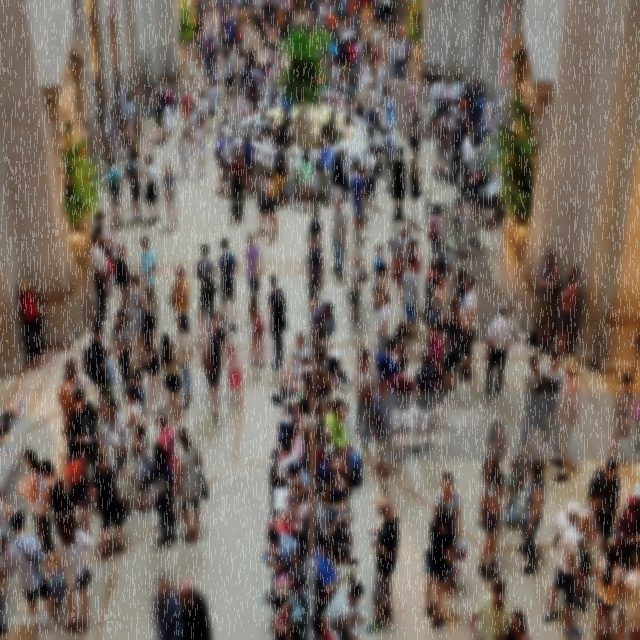pessoa: (268, 299, 362, 638), (4, 509, 64, 639), (542, 496, 587, 640), (258, 0, 364, 59), (52, 504, 97, 634), (234, 58, 294, 144), (364, 494, 399, 634), (88, 444, 130, 560), (137, 439, 181, 548), (14, 448, 56, 562), (422, 499, 457, 629), (430, 471, 466, 594), (548, 354, 582, 484), (370, 370, 402, 500), (572, 484, 604, 612), (58, 432, 93, 541), (81, 320, 118, 422), (476, 418, 510, 528), (173, 424, 204, 544), (516, 452, 546, 576), (586, 458, 622, 560), (475, 467, 506, 582), (36, 457, 80, 538), (200, 308, 231, 422), (590, 542, 626, 640), (482, 298, 514, 408), (438, 290, 468, 396), (67, 387, 101, 476), (386, 352, 414, 460), (15, 276, 46, 372), (352, 348, 379, 458), (196, 0, 246, 58), (533, 248, 559, 356), (140, 310, 168, 410), (408, 346, 433, 458), (540, 348, 566, 454), (468, 577, 512, 639), (554, 262, 580, 363), (154, 410, 180, 510), (169, 310, 195, 410), (132, 234, 160, 325), (318, 59, 366, 112), (456, 274, 479, 384), (264, 272, 290, 369), (158, 330, 184, 422), (518, 354, 543, 449), (613, 480, 639, 570), (216, 235, 240, 332), (194, 242, 219, 334), (608, 372, 634, 460), (130, 422, 154, 516), (503, 442, 534, 514), (526, 383, 550, 473), (176, 580, 212, 639), (153, 570, 182, 640), (343, 254, 369, 332), (112, 309, 134, 400), (128, 271, 150, 361), (398, 252, 418, 349), (167, 267, 192, 341), (112, 242, 134, 326), (92, 222, 116, 298), (616, 548, 636, 639), (106, 398, 131, 470), (427, 320, 443, 430), (401, 238, 422, 320), (91, 232, 110, 321), (329, 149, 352, 222), (125, 145, 146, 223), (329, 194, 348, 280), (57, 366, 79, 440), (388, 144, 408, 225), (466, 170, 486, 250), (386, 203, 406, 283), (93, 66, 122, 121), (478, 80, 502, 146), (0, 489, 17, 580), (104, 157, 125, 230), (247, 290, 266, 370), (422, 256, 442, 332), (316, 134, 336, 209), (448, 180, 468, 254), (373, 286, 392, 362), (162, 163, 182, 235), (437, 237, 458, 305), (394, 224, 412, 302), (429, 96, 470, 130), (433, 108, 451, 184), (224, 340, 244, 408), (142, 154, 160, 228), (308, 218, 324, 301), (376, 336, 400, 389), (296, 145, 314, 213), (197, 307, 214, 378), (95, 210, 116, 267), (106, 106, 124, 172), (190, 116, 208, 182), (350, 164, 366, 238), (245, 230, 263, 294), (449, 116, 465, 188), (459, 125, 475, 197), (230, 149, 246, 221), (408, 112, 427, 172), (428, 272, 447, 332), (371, 261, 392, 315), (382, 124, 398, 194), (332, 148, 352, 204), (254, 167, 270, 236), (391, 320, 412, 372), (150, 82, 167, 146), (466, 172, 484, 232), (222, 130, 238, 197), (408, 154, 422, 230), (427, 72, 445, 131), (429, 272, 449, 324), (272, 142, 288, 206), (265, 168, 279, 240), (498, 609, 531, 639), (286, 140, 300, 210), (434, 110, 448, 178), (240, 134, 254, 201), (428, 204, 444, 262), (162, 81, 178, 138), (366, 142, 379, 212), (369, 119, 384, 179), (215, 128, 228, 195), (125, 383, 143, 430), (61, 356, 87, 388), (176, 126, 191, 180), (360, 99, 378, 144), (308, 205, 323, 259), (206, 77, 220, 134), (308, 209, 324, 256), (339, 114, 354, 164), (360, 100, 376, 146), (131, 366, 145, 418), (194, 85, 207, 141), (180, 85, 194, 136), (474, 144, 490, 188), (403, 34, 418, 80), (202, 44, 215, 96), (92, 314, 110, 351), (368, 38, 381, 89), (447, 107, 458, 167), (121, 116, 137, 156), (185, 49, 198, 98), (222, 55, 235, 104), (230, 147, 241, 203), (94, 400, 110, 438), (406, 78, 418, 128), (309, 158, 320, 211), (450, 72, 466, 108), (230, 92, 244, 133), (374, 55, 385, 106), (388, 32, 399, 80), (228, 122, 240, 164), (210, 52, 220, 100), (396, 38, 407, 80), (385, 90, 397, 128), (456, 268, 468, 306), (124, 92, 135, 132), (442, 284, 452, 327), (352, 156, 368, 182), (372, 111, 387, 138), (374, 242, 384, 282), (372, 22, 382, 60), (328, 110, 338, 148), (220, 114, 232, 144), (382, 49, 389, 98), (362, 34, 372, 68), (253, 0, 263, 33), (188, 102, 198, 134), (130, 112, 142, 138), (218, 105, 231, 128), (246, 38, 257, 64), (345, 108, 359, 128), (362, 177, 370, 212), (243, 91, 253, 117), (389, 30, 403, 44), (462, 82, 470, 96), (458, 297, 464, 313)
